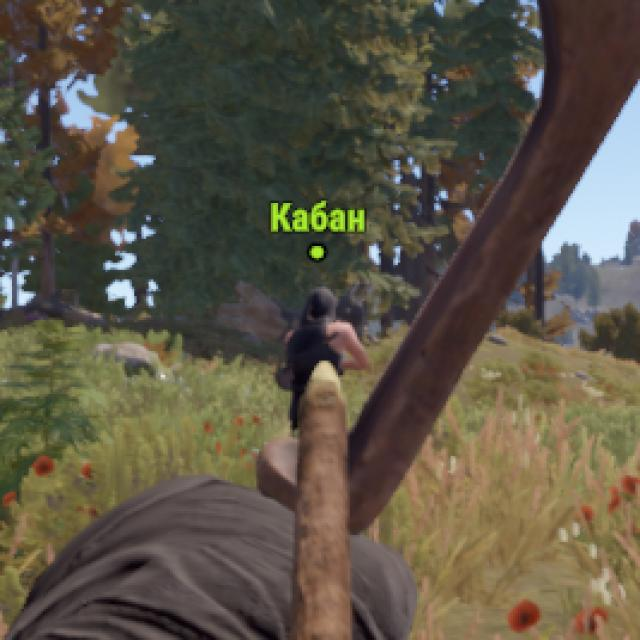Player: (278, 290, 361, 360)
